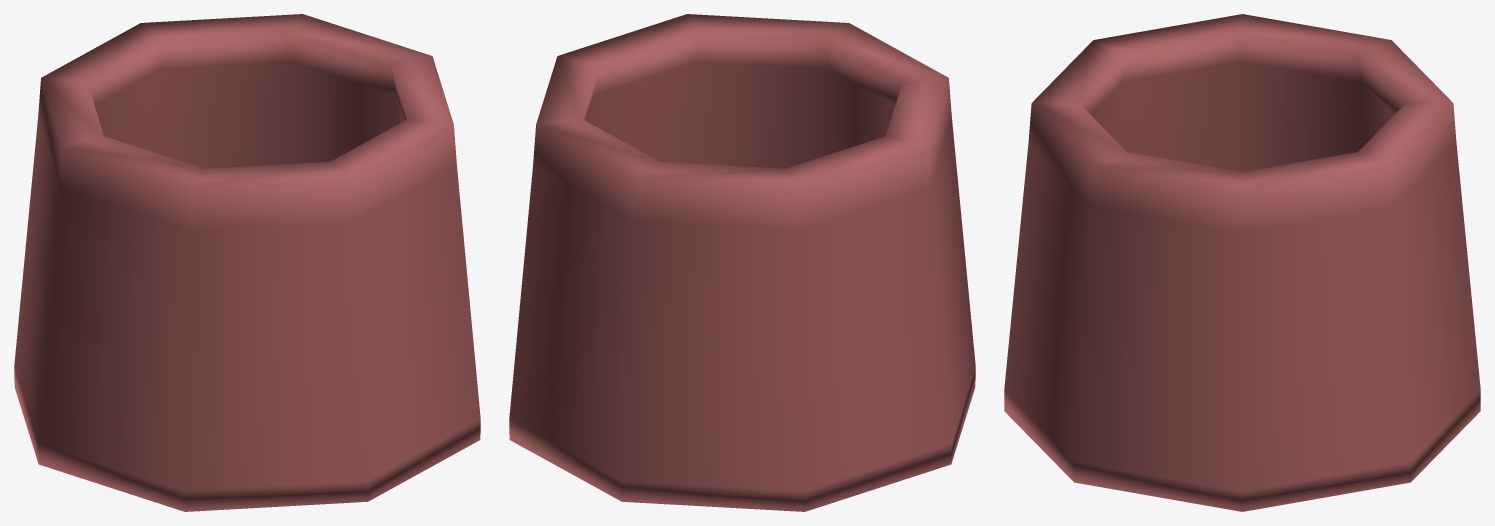
The model's file is SaltedEggJar.fbx.
3 renders of one model, left to right at view 1: azimuth 30°, elevation 25°; view 2: azimuth 150°, elevation 25°; view 3: azimuth 270°, elevation 25°, orthographic.
Parts seen in each view (by area): view 1: Egg_01; view 2: Egg_01; view 3: Egg_01.
Boxes of the visible parts, x1=… form: Egg_01: x1=14, y1=14, x2=480, y2=511; Egg_01: x1=509, y1=14, x2=975, y2=511; Egg_01: x1=1004, y1=14, x2=1480, y2=511.
Size of the model in its own units: 0.622 by 0.4439 by 0.622.
